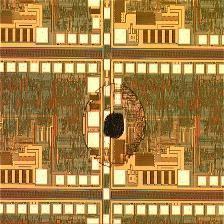PARTICLE: (79, 81, 152, 172)
